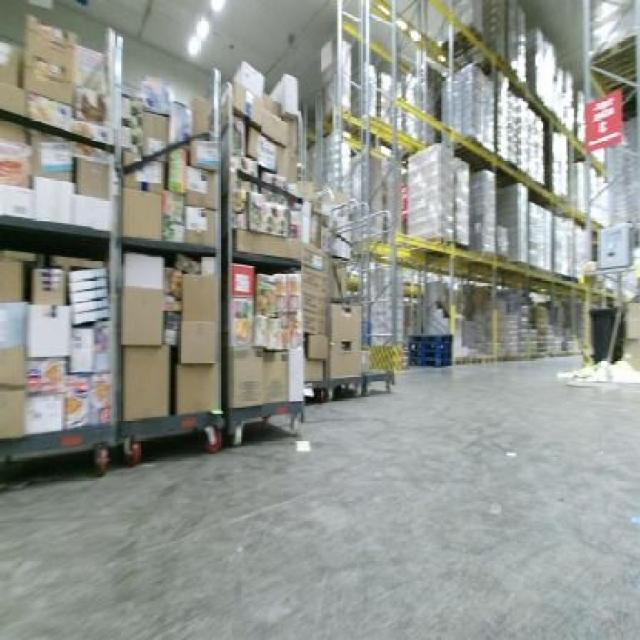floor: (0, 357, 637, 637)
pallets: (186, 0, 227, 52)
